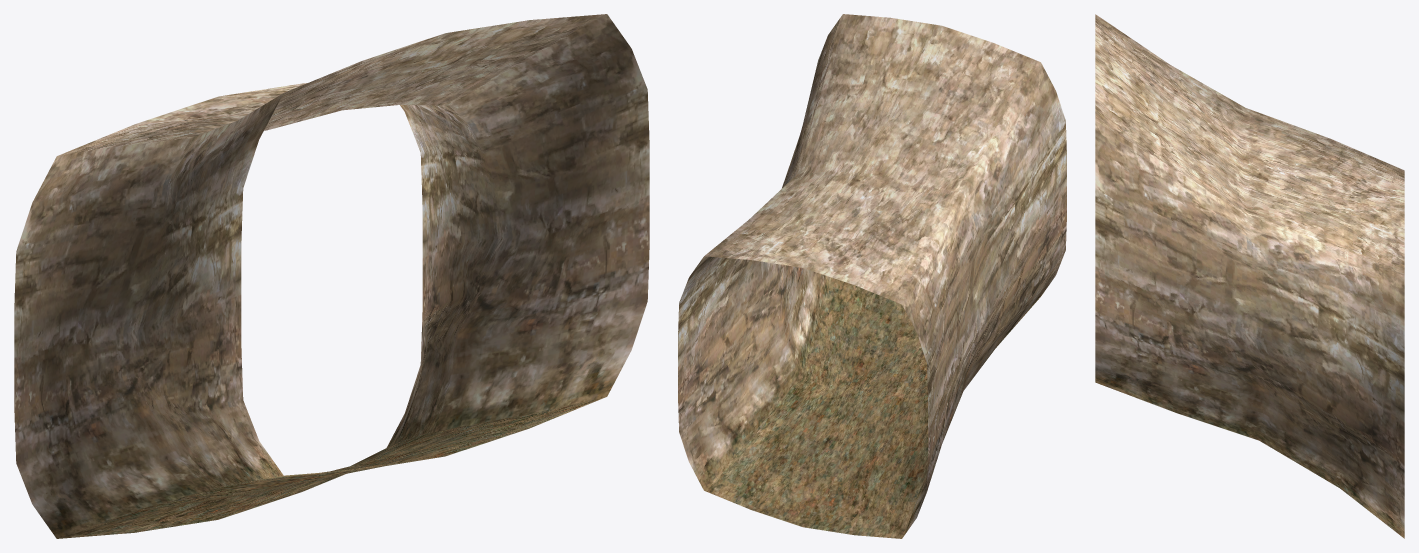
The model's file is thm_all_cave_s03_r13_mesh_r13.fbx.
The picture shows the model from 3 angles, left to right: view 1: azimuth 30°, elevation 25°; view 2: azimuth 150°, elevation 25°; view 3: azimuth 270°, elevation 25°; orthographic projection. The views are drawn at different scales.
Visible parts, largest first — view 1: mesh_node; view 2: mesh_node; view 3: mesh_node.
Boxes of the visible parts, box(x1,y1,x2,y2) form: mesh_node: box(14, 14, 649, 538); mesh_node: box(678, 14, 1066, 538); mesh_node: box(1095, 14, 1404, 538).
Size of the model in its own units: 8 by 12.23 by 7.71.
